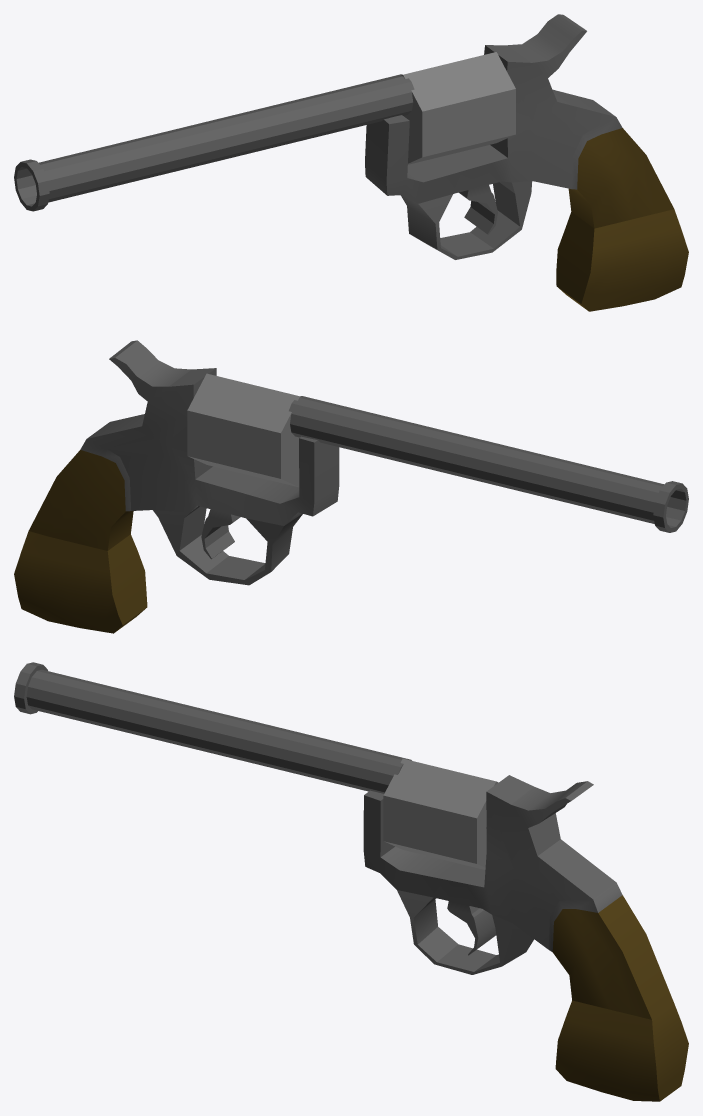
Rendered from Gun.fbx.
3 views of the same model, one above another, from view 1: azimuth 30°, elevation 25°; view 2: azimuth 150°, elevation 25°; view 3: azimuth 330°, elevation 25° (orthographic).
Parts seen in each view (by area): view 1: Gun; view 2: Gun; view 3: Gun.
Part boxes in pixels (x1,y1,x2,y2): Gun: (14, 14, 688, 311); Gun: (14, 340, 688, 633); Gun: (14, 662, 688, 1101).
Bounding box in the file's own units: 36.31 × 15.26 × 3.77.
